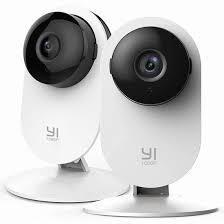tutu: (100, 10, 204, 192)
